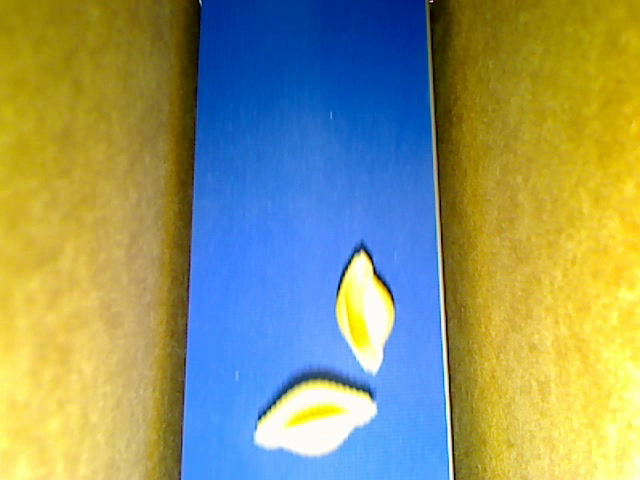shell: (254, 378, 377, 455), (336, 249, 394, 373)
